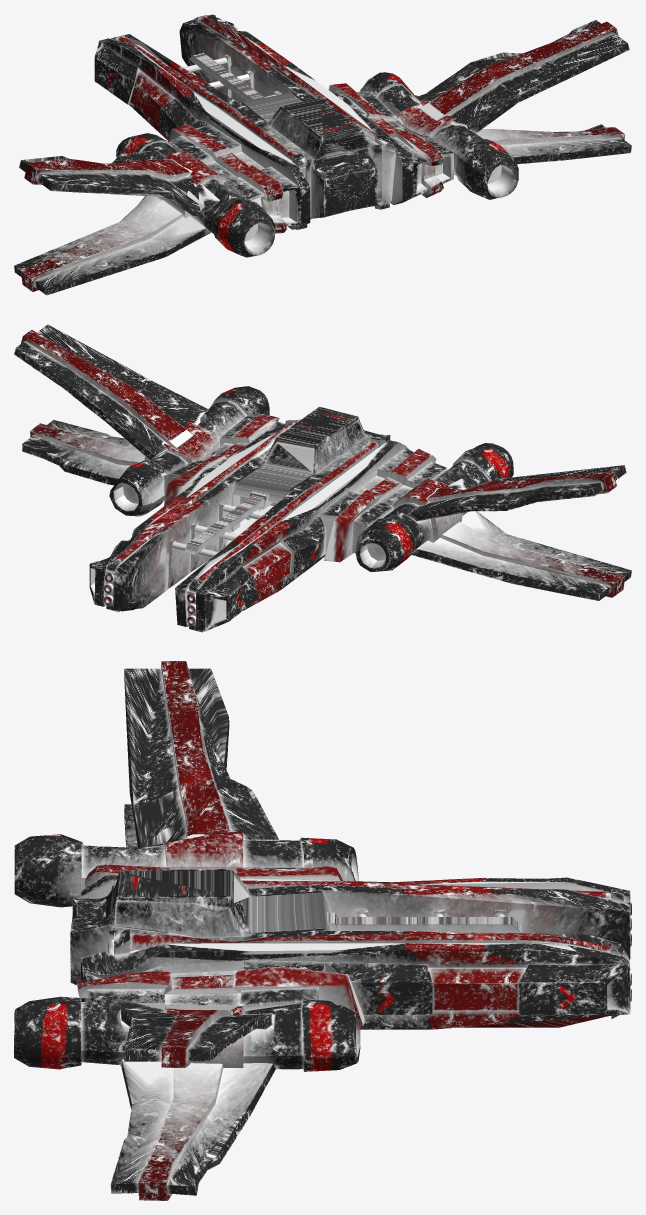
File: Carier_ship_destroyed.fbx
3 renders of one model, top to bottom at view 1: azimuth 30°, elevation 25°; view 2: azimuth 150°, elevation 25°; view 3: azimuth 270°, elevation 25°, orthographic. The views are drawn at different scales.
Parts seen in each view (by area): view 1: Structure.001; view 2: Structure.001; view 3: Structure.001.
Part boxes in pixels (x1,y1,x2,y2): Structure.001: (14, 14, 631, 295); Structure.001: (14, 324, 631, 632); Structure.001: (14, 661, 631, 1200).
Size of the model in its own units: 7640 by 11514 by 2211.
